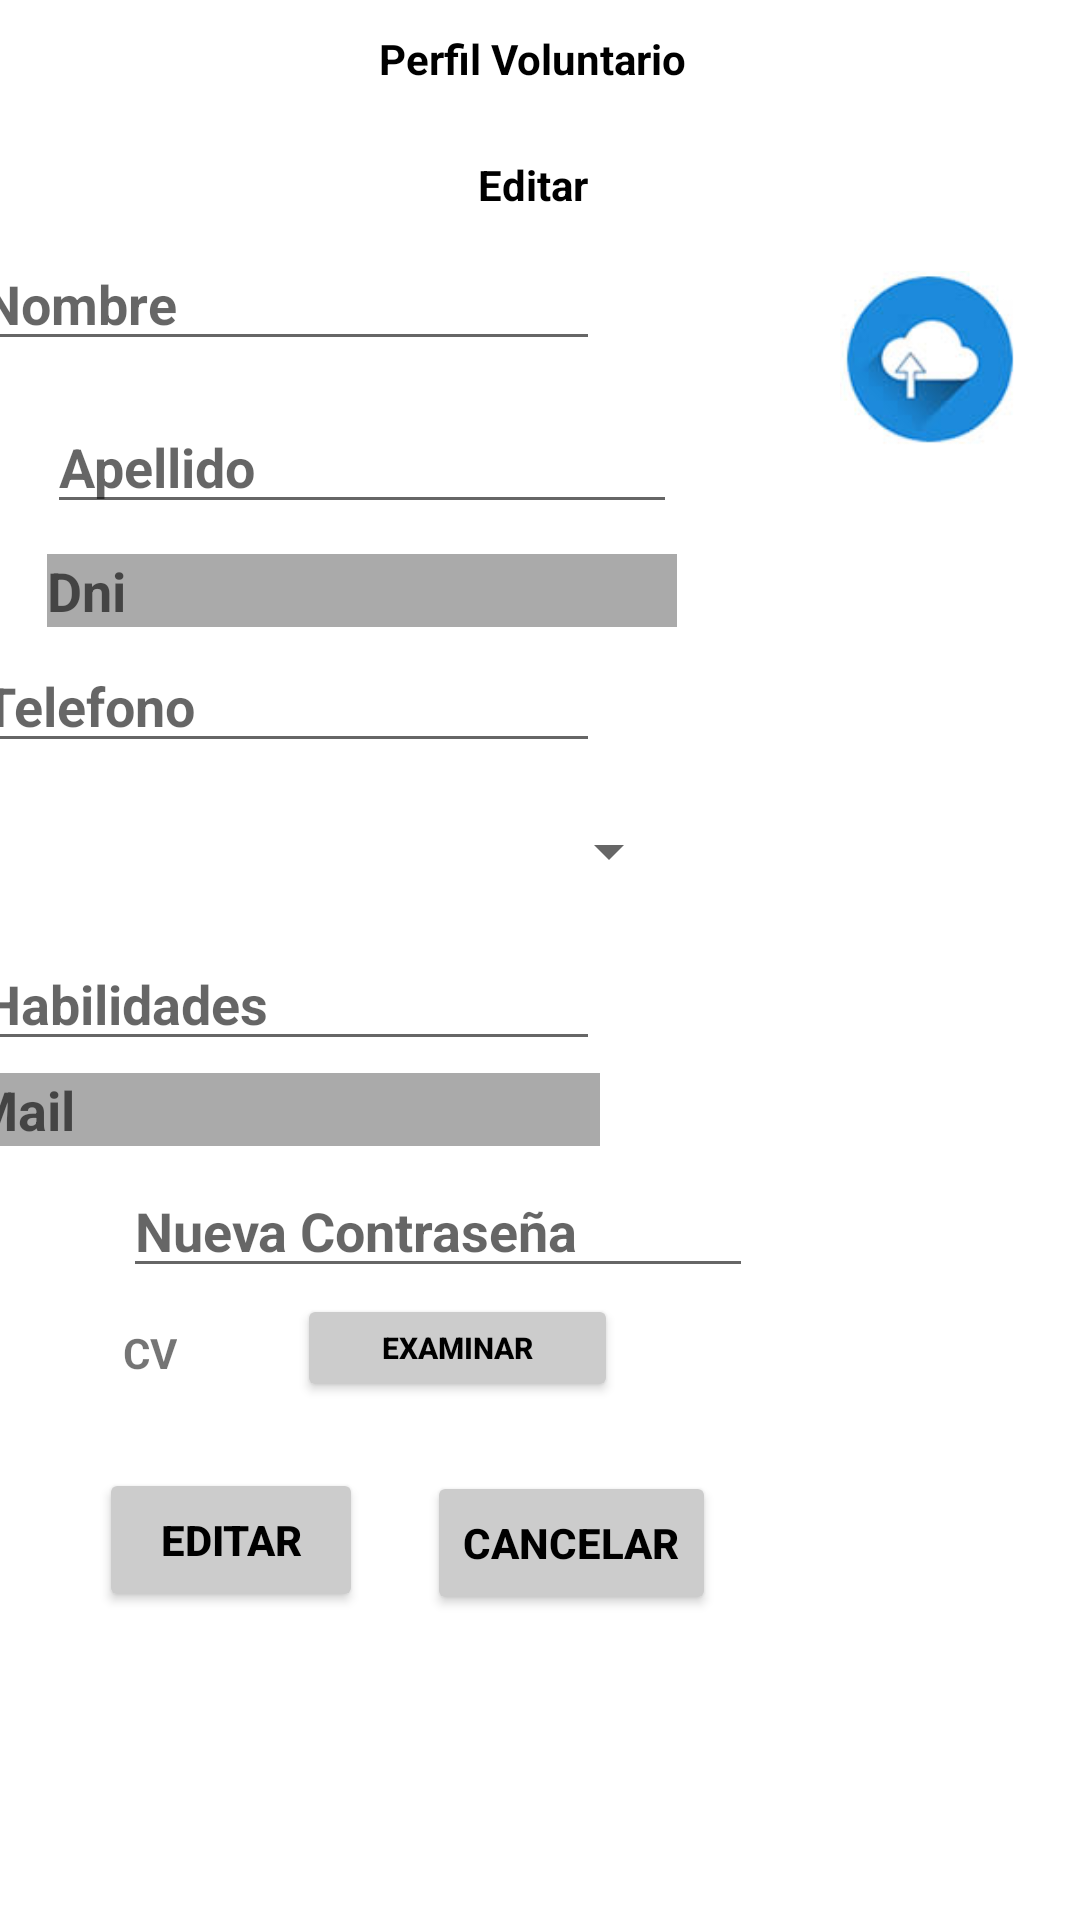

Icon click points for this 1080px x 1920px phone screenshot, format (x,y):
upload: (930,359)
